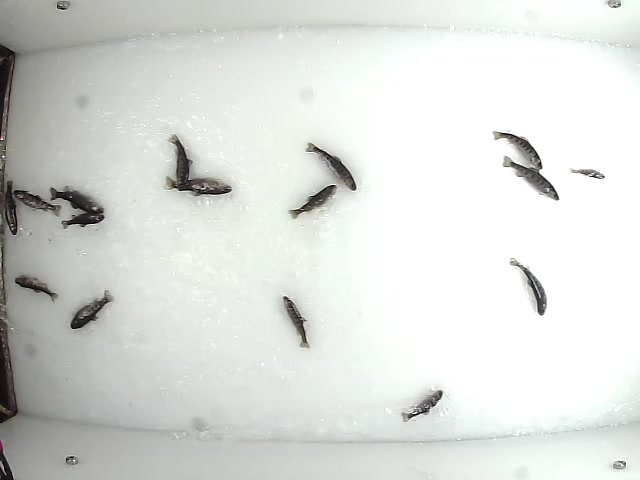fish: (303, 141, 360, 193), (501, 154, 560, 200), (507, 255, 549, 317), (285, 179, 337, 221), (491, 129, 544, 170), (68, 289, 117, 332), (158, 174, 235, 198), (280, 291, 311, 350), (400, 387, 445, 424), (46, 186, 103, 215), (166, 133, 197, 182), (12, 275, 58, 305), (13, 188, 62, 215), (1, 174, 19, 234), (567, 163, 607, 183)
